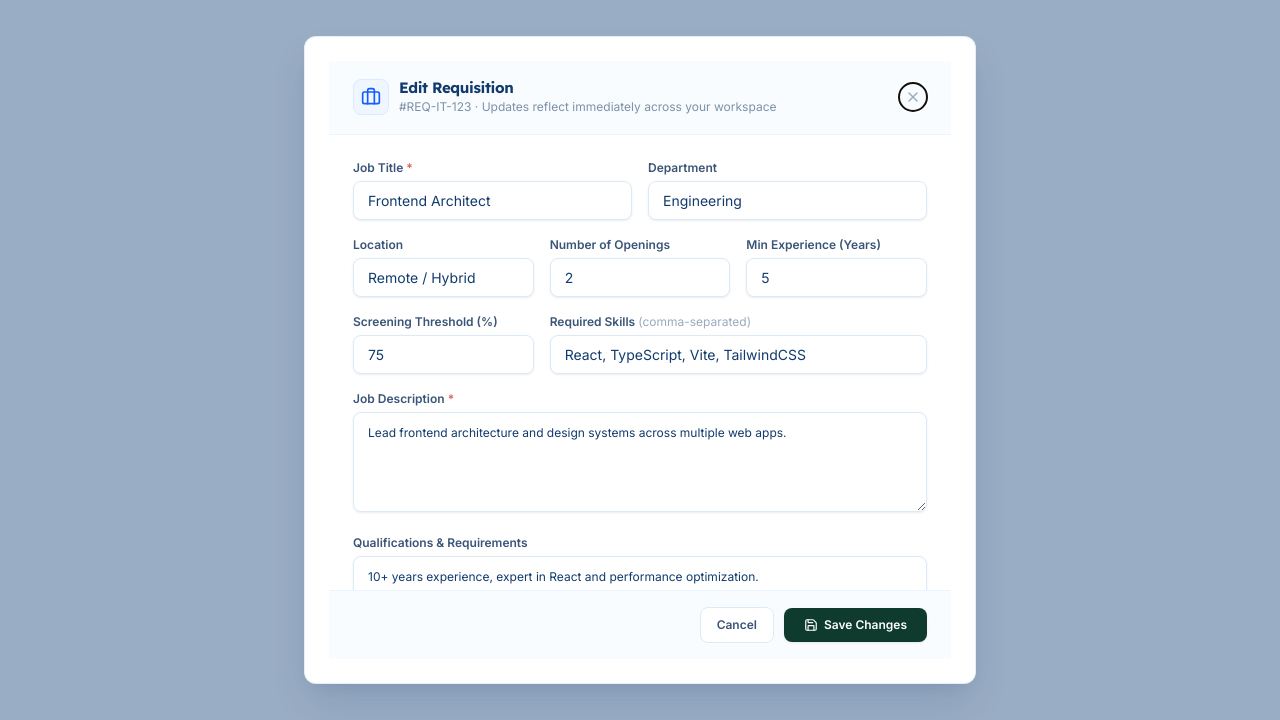
it: EditJobModal › handles server conflict error (409 JOB_CONFLICT)
Step 1. Click the button "Save Changes" → [855, 625], box [784,608,927,642]
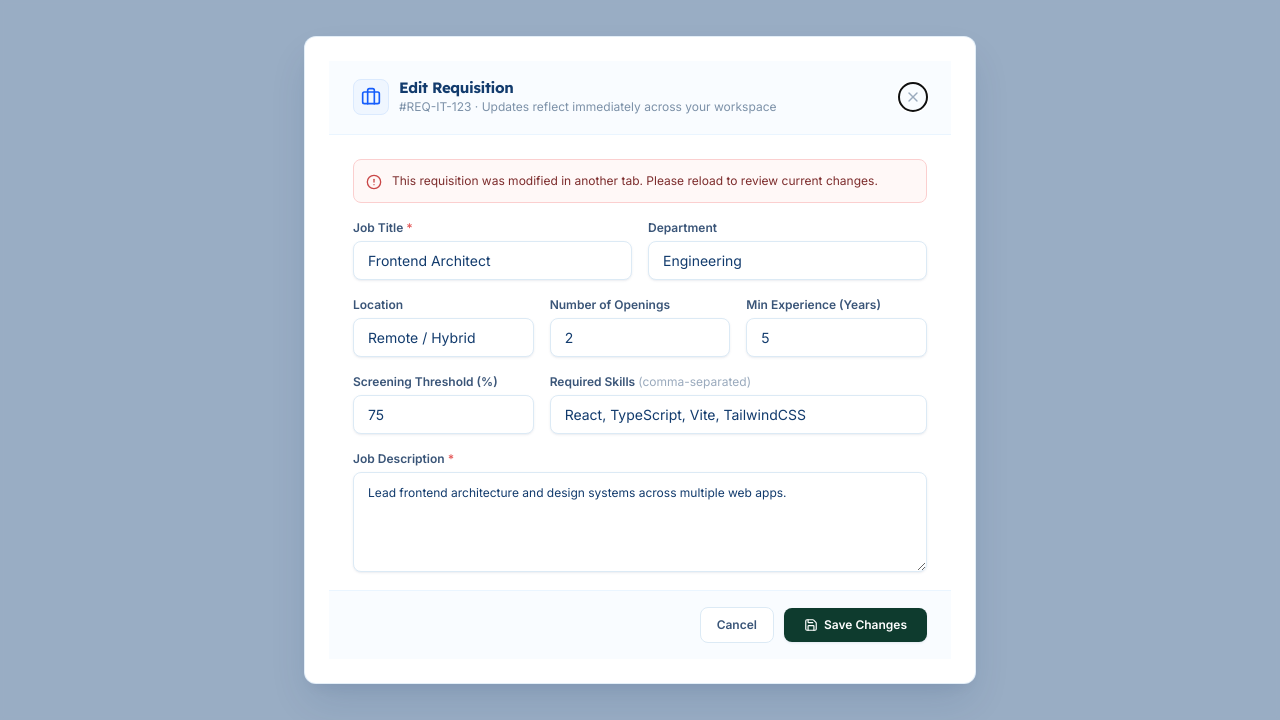
expect the text "This requisition was modified in another tab" is shown: met, box [392,173,878,188]
